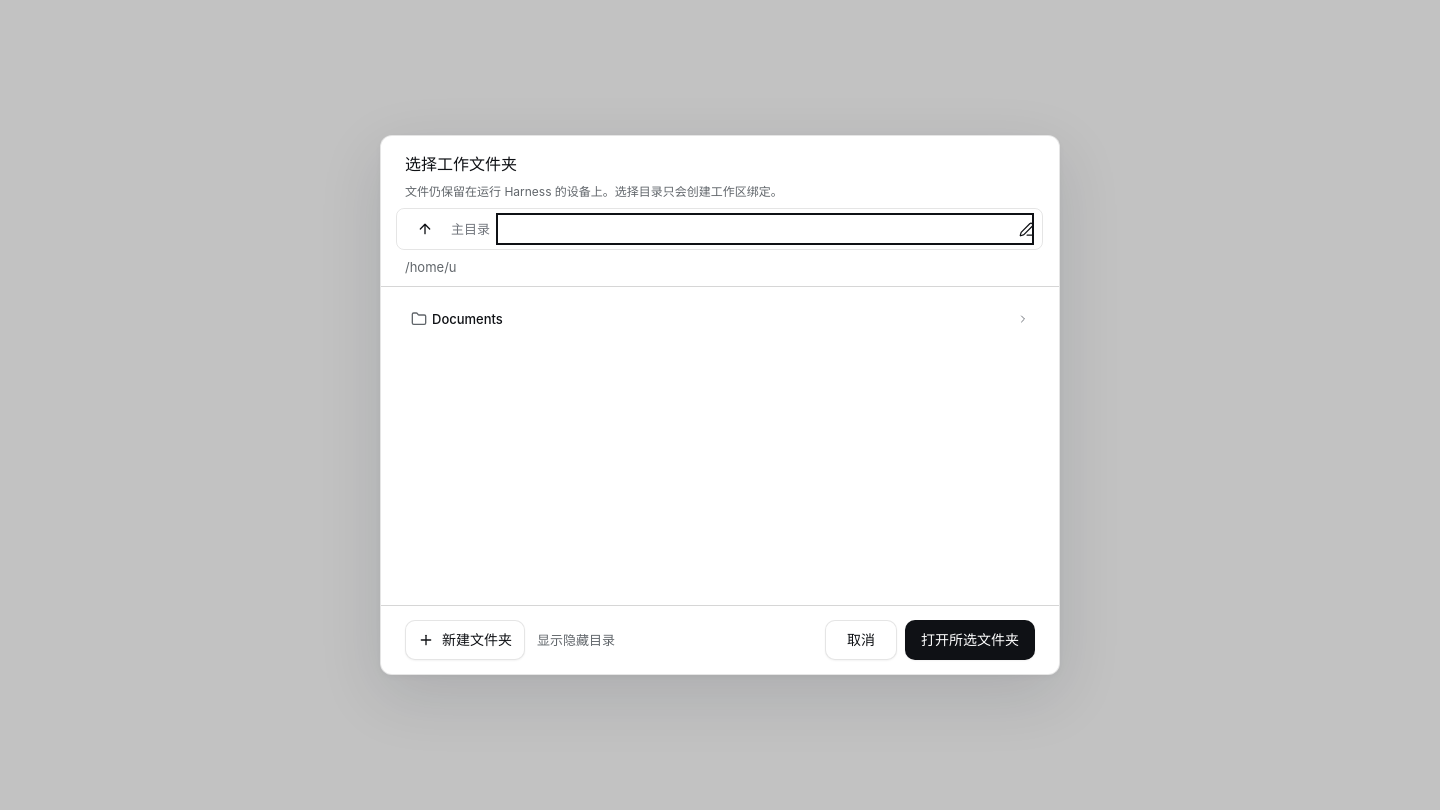
DirectoryBrowser navigation › lands a selected directory as a Miller pair and aborts a superseded child scan
This screenshot has width=1440, height=810.
Click the button "Documents" at (467, 319), box top-left (405, 303), bottom-right (1035, 335)
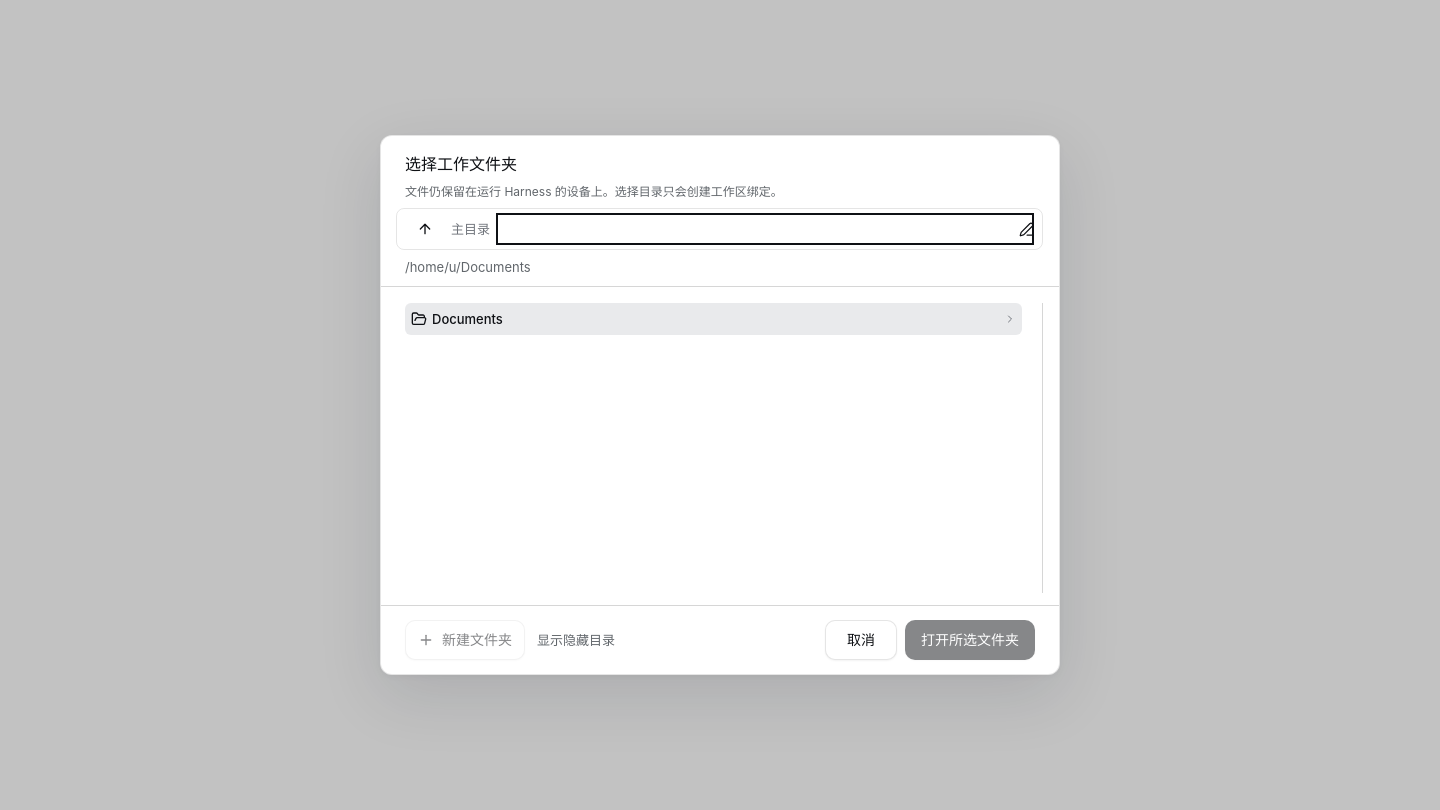
Expected: the number of lists is 1, top-left (405, 303), bottom-right (1022, 335)
Click the button "主目录" at (470, 229), box top-left (449, 214), bottom-right (492, 244)
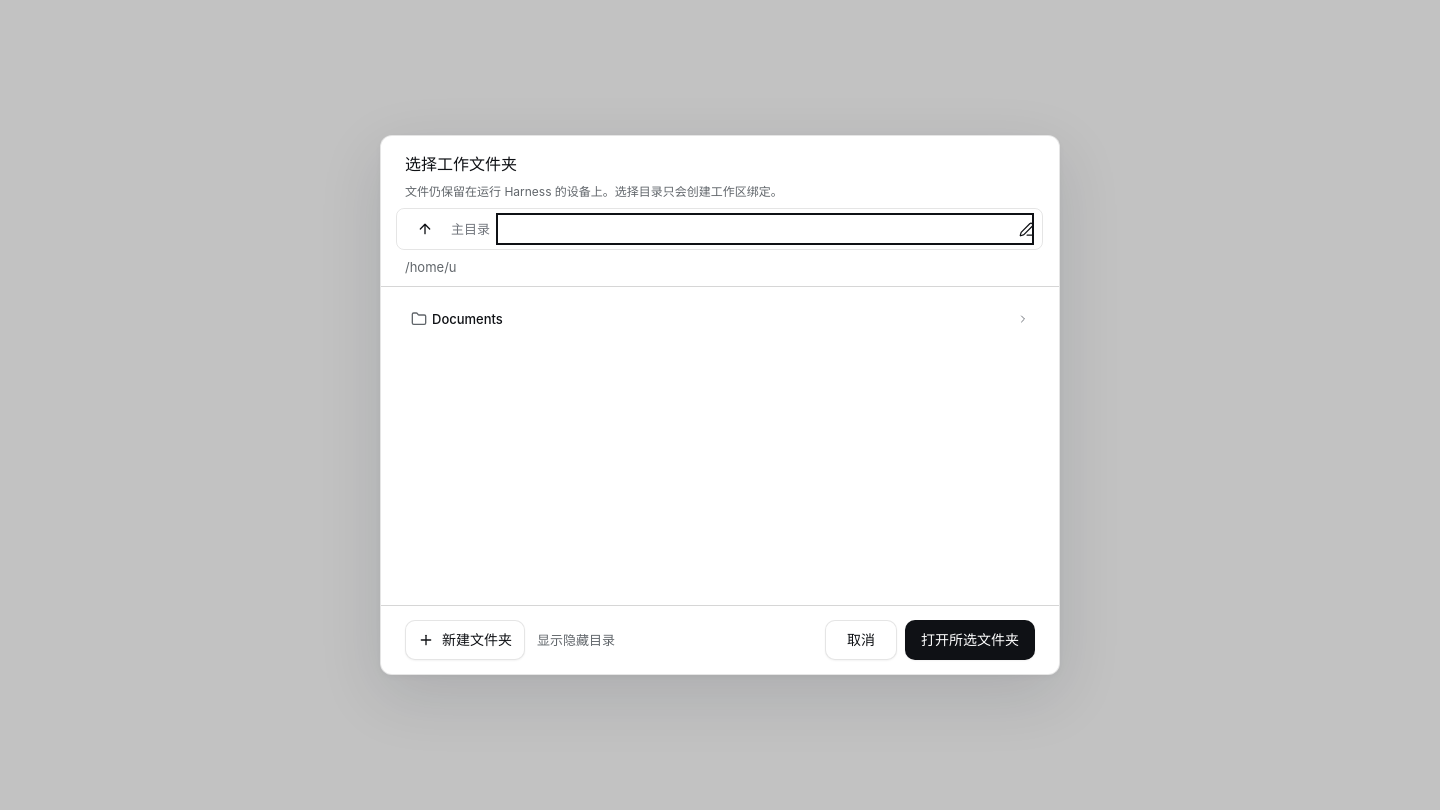
Click the button "Documents" at (467, 319), box top-left (405, 303), bottom-right (1035, 335)
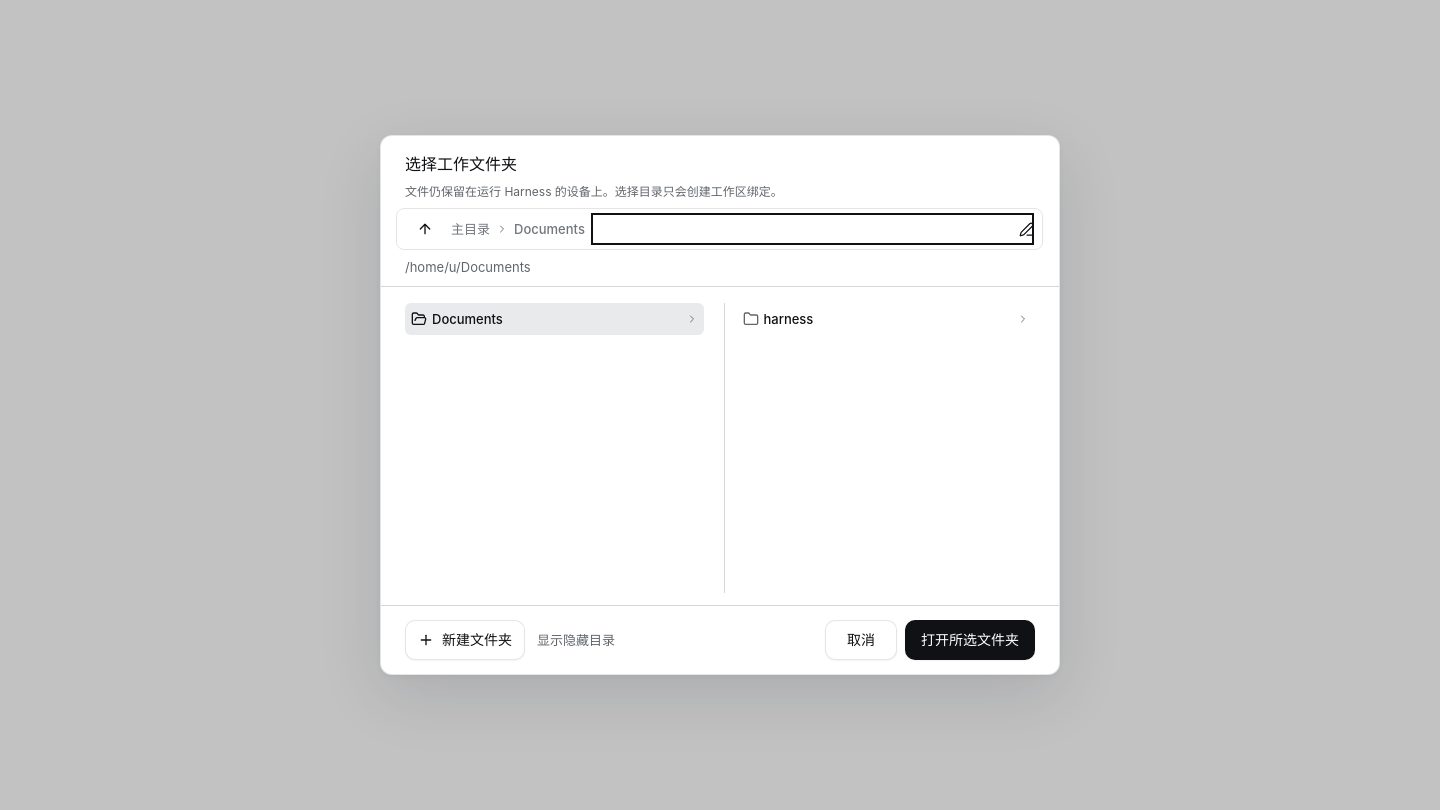
Expected: the 2nd button "Documents" is shown, top-left (405, 303), bottom-right (704, 335)
Expected: the number of lists is 2, top-left (405, 303), bottom-right (704, 335); top-left (736, 303), bottom-right (1035, 335)
